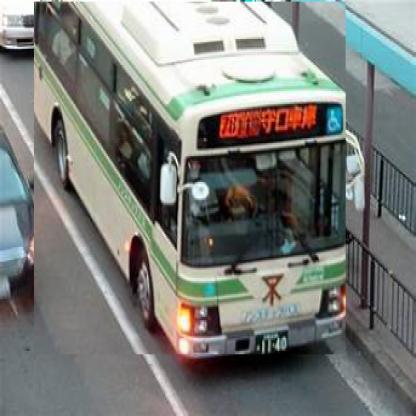bus: (35, 3, 348, 357)
